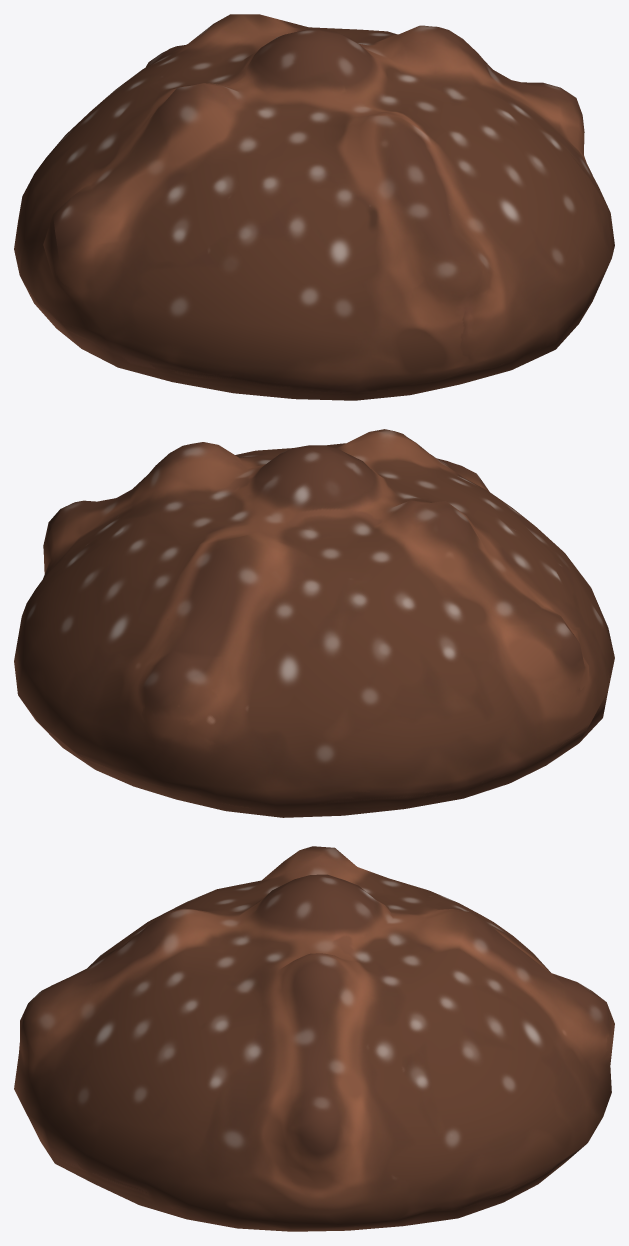
File: pan_de_muerto.glb
3 renders of one model, top to bottom at view 1: azimuth 30°, elevation 25°; view 2: azimuth 150°, elevation 25°; view 3: azimuth 270°, elevation 25°, orthographic. The views are drawn at different scales.
Parts seen in each view (by area): view 1: Object_2; view 2: Object_2; view 3: Object_2.
Boxes of the visible parts, x1,y1,x2,y2 form: Object_2: [14, 14, 614, 400]; Object_2: [14, 429, 614, 817]; Object_2: [14, 846, 614, 1231].
Size of the model in its own units: 2.03 by 0.9315 by 2.07.
Materials: 1 (1 with a texture image).
